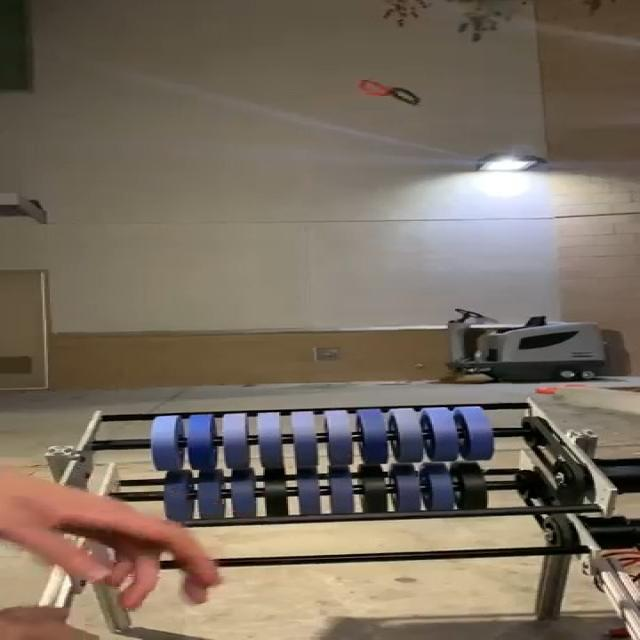note: (354, 78, 394, 97)
